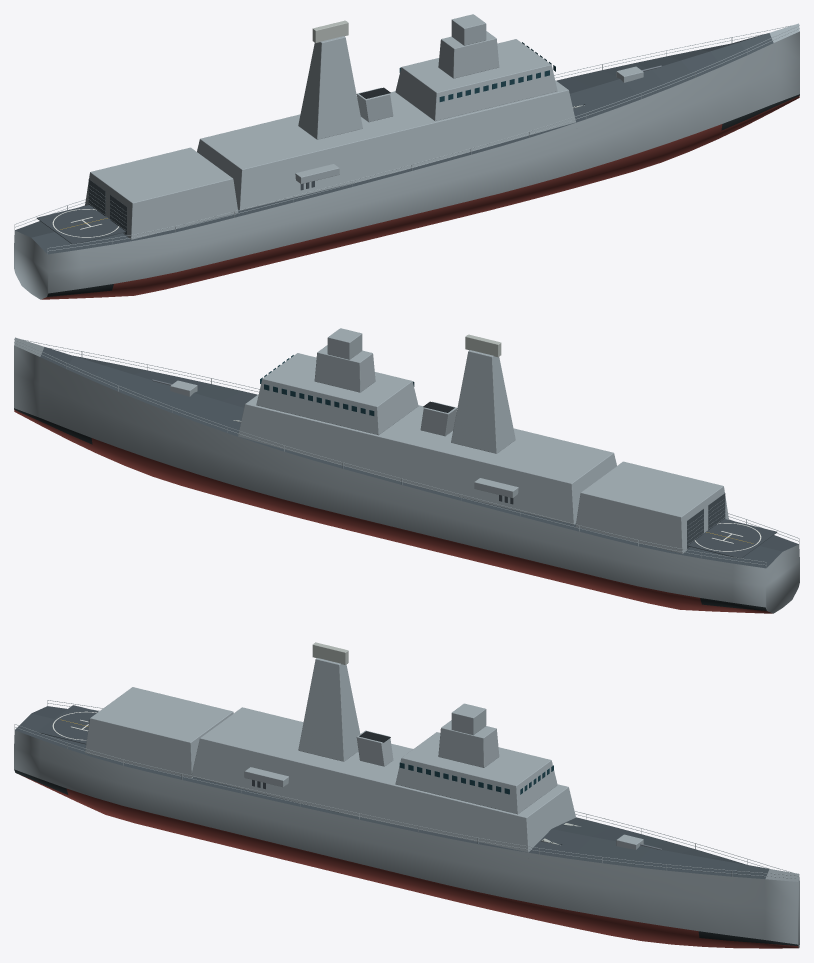
File: dnk_ffg_iver_huitfeldt.glb
3 views of the same model, one above another, from view 1: azimuth 30°, elevation 25°; view 2: azimuth 150°, elevation 25°; view 3: azimuth 330°, elevation 25° (orthographic).
Visible parts, largest first — view 1: dnk_ffg_iver_huitfeldt; view 2: dnk_ffg_iver_huitfeldt; view 3: dnk_ffg_iver_huitfeldt.
Part boxes in pixels (x1,y1,x2,y2): dnk_ffg_iver_huitfeldt: (14, 14, 799, 299); dnk_ffg_iver_huitfeldt: (14, 328, 799, 613); dnk_ffg_iver_huitfeldt: (14, 642, 799, 948).
Size of the model in its own units: 10 by 2.63 by 1.27.
